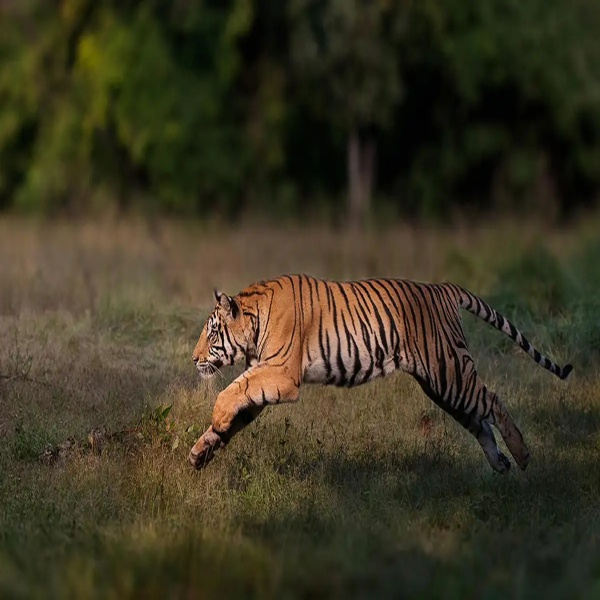Tiger: (187, 275, 575, 474)
